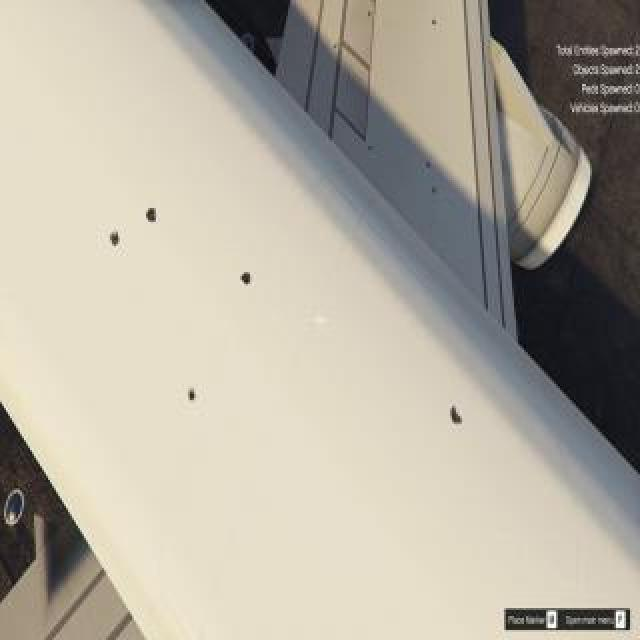crack: (450, 400, 468, 428), (109, 228, 123, 250), (146, 203, 158, 227), (240, 268, 254, 288), (188, 388, 200, 410), (426, 158, 434, 174), (368, 141, 376, 157), (431, 15, 439, 27), (433, 187, 437, 199)
